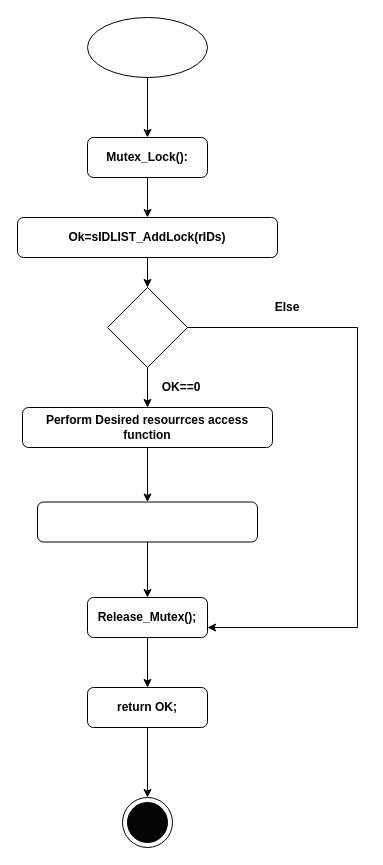
The diagram is 383 pixels wide and 865 high, and some of its shapes have lost their labels. Each missing label, with the centre of its shape:
"sIDLIST_UnLockLock(rIDs)" belongs at point (147, 521).
"Start" belongs at point (147, 47).
